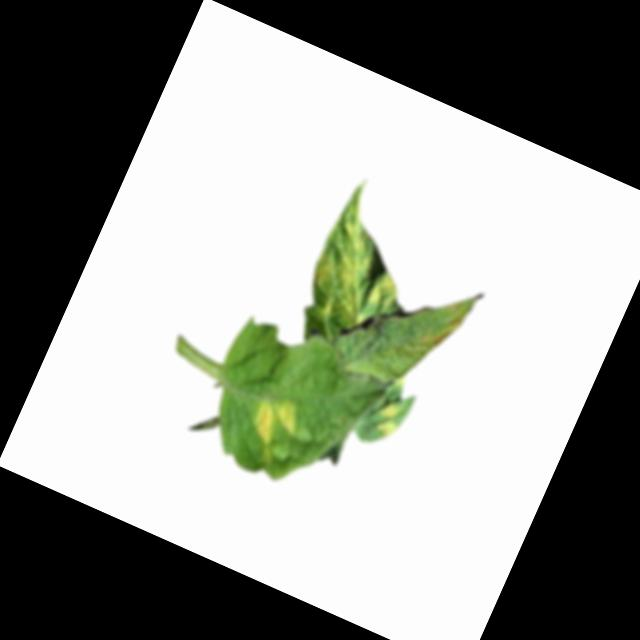Leaf_Mold: (292, 183, 430, 340), (246, 388, 308, 452), (368, 394, 410, 441)
